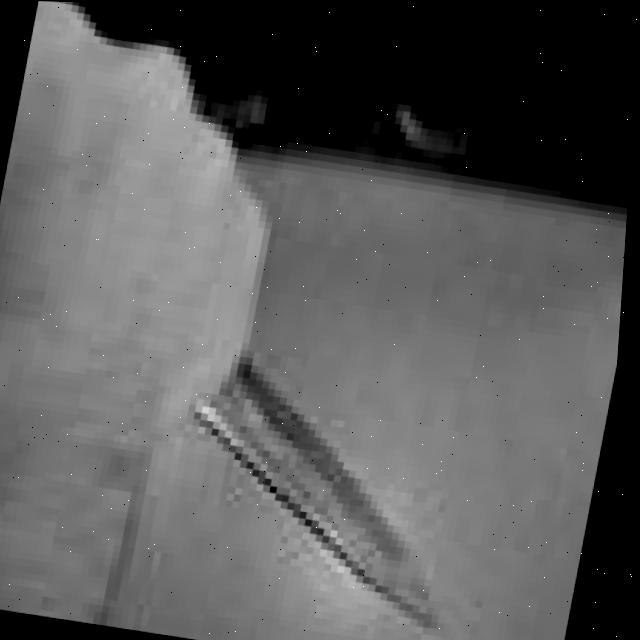knife: (155, 353, 517, 636)
